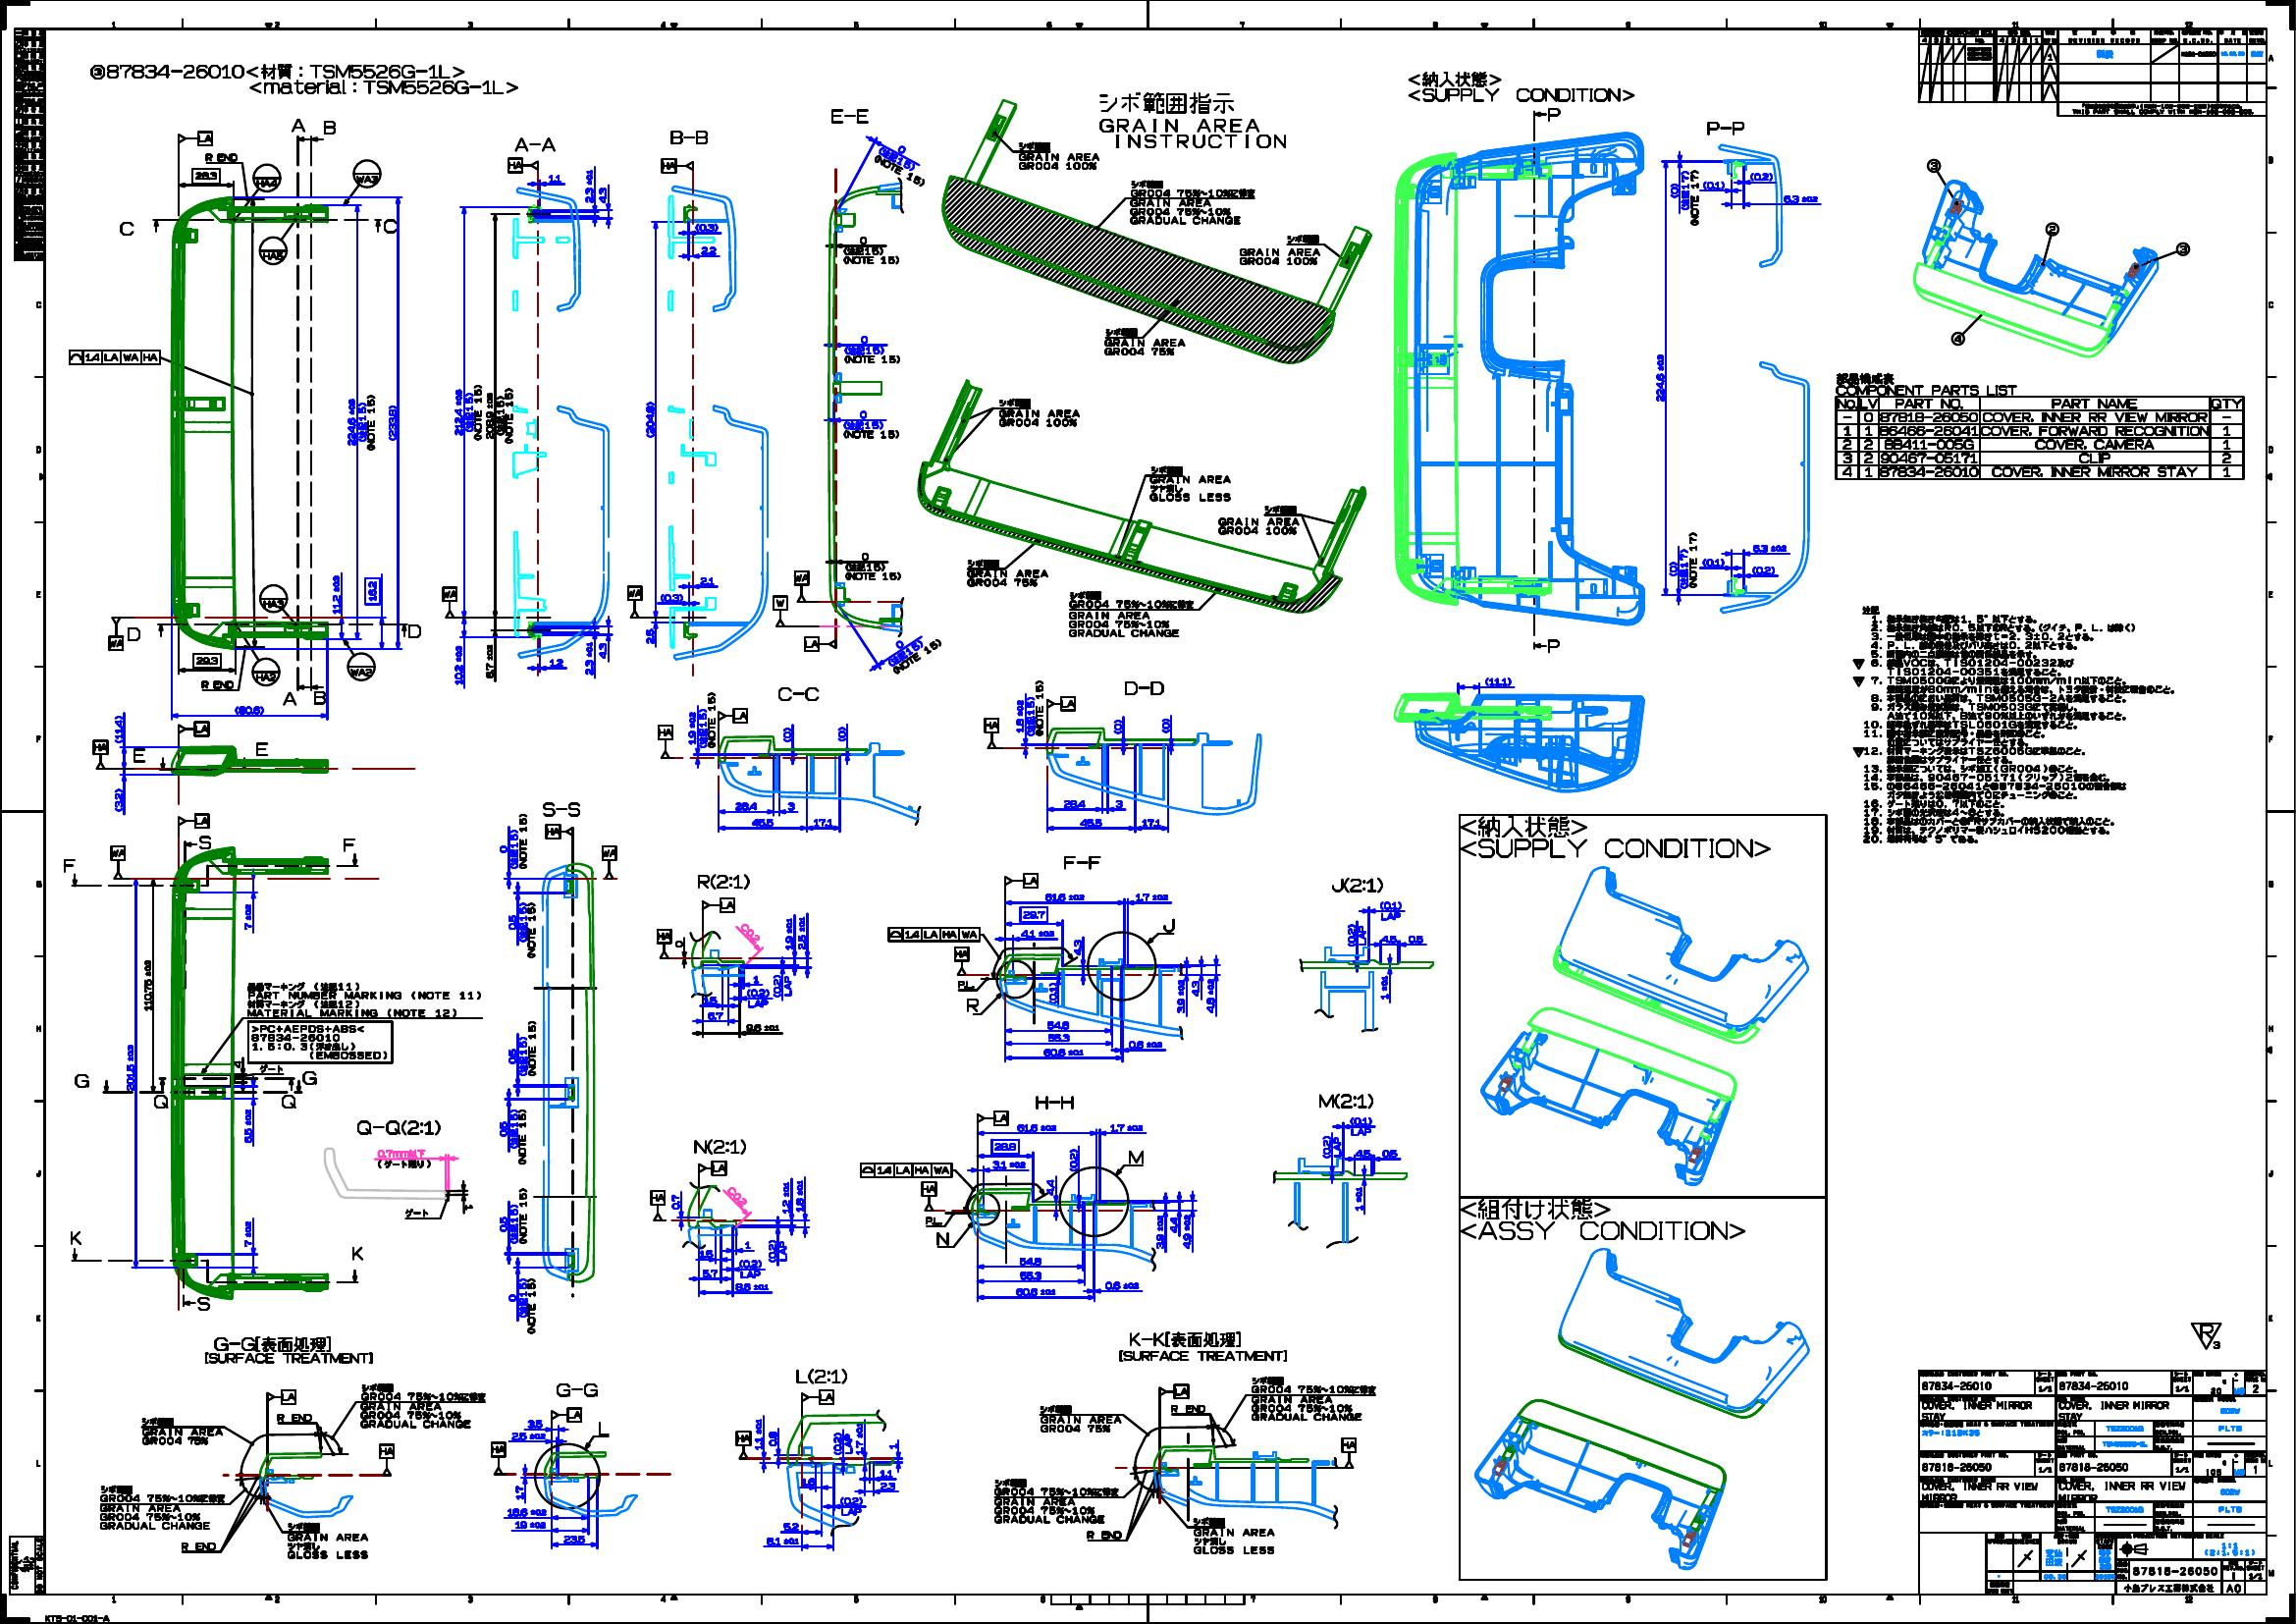anntotation_text: (1848, 606, 2180, 845), (1834, 371, 2247, 480), (1458, 812, 1780, 866), (88, 62, 520, 98), (1460, 1193, 1751, 1243), (1096, 91, 1288, 151), (246, 981, 483, 1019), (1405, 70, 1635, 105), (1128, 178, 1258, 228), (1251, 1374, 1379, 1424), (1068, 591, 1195, 640), (97, 1483, 227, 1531), (993, 1476, 1121, 1524), (246, 1021, 393, 1062), (1114, 1329, 1288, 1362), (360, 1381, 487, 1427), (202, 1336, 372, 1366), (1149, 464, 1237, 504), (1191, 1517, 1275, 1555), (286, 1520, 369, 1559), (137, 1413, 223, 1446), (996, 397, 1080, 431), (1103, 325, 1186, 359), (1015, 141, 1100, 172), (1216, 504, 1300, 536), (1238, 234, 1321, 265), (966, 557, 1049, 589), (1040, 1404, 1123, 1432), (7, 1534, 46, 1594), (69, 348, 160, 366), (355, 1118, 441, 1135), (887, 926, 978, 942), (859, 1162, 950, 1178), (884, 642, 947, 663), (1679, 169, 1700, 228), (841, 344, 901, 366), (358, 390, 378, 455), (516, 1019, 538, 1077), (374, 1148, 432, 1169), (696, 691, 717, 749), (1678, 527, 1697, 589), (841, 562, 903, 582), (508, 812, 529, 868), (873, 156, 929, 178), (518, 1276, 538, 1336), (841, 420, 901, 439), (495, 385, 515, 445), (508, 1186, 527, 1244), (516, 900, 536, 958), (792, 1366, 850, 1385), (690, 1137, 747, 1156), (344, 650, 378, 682), (840, 246, 899, 264), (256, 582, 292, 612), (1316, 1091, 1374, 1109), (464, 383, 481, 441), (249, 162, 281, 193), (350, 160, 383, 190), (509, 1109, 527, 1165), (1026, 680, 1043, 736), (249, 656, 281, 685), (258, 234, 288, 265), (694, 874, 752, 889), (1330, 877, 1384, 893), (1123, 678, 1166, 698), (829, 105, 871, 125), (513, 134, 555, 153), (555, 1381, 599, 1399), (1031, 1095, 1079, 1111), (539, 800, 581, 817), (1059, 854, 1105, 870), (775, 685, 820, 701), (1706, 120, 1744, 137), (668, 128, 706, 146), (701, 896, 736, 914), (1003, 872, 1038, 889), (975, 1109, 1008, 1127), (378, 1443, 395, 1475), (805, 634, 836, 652), (771, 594, 789, 626), (177, 130, 213, 146), (1158, 1383, 1189, 1401), (801, 1388, 834, 1404), (550, 1406, 583, 1422), (490, 1441, 506, 1475), (657, 724, 673, 758), (107, 617, 123, 650), (697, 1158, 727, 1176), (91, 740, 109, 770), (771, 974, 792, 998), (1321, 1134, 1342, 1158), (838, 1496, 864, 1515), (265, 1388, 297, 1404), (984, 717, 1000, 749), (794, 569, 810, 601), (441, 587, 457, 619), (177, 721, 209, 736), (833, 1432, 854, 1455), (1346, 923, 1365, 947), (768, 1237, 787, 1262), (738, 1258, 762, 1278), (921, 1181, 936, 1211), (508, 156, 538, 172), (1340, 1438, 1356, 1468), (661, 158, 694, 172), (627, 585, 641, 619), (111, 844, 125, 877), (177, 814, 211, 828), (44, 1615, 111, 1622), (954, 946, 970, 974), (718, 708, 747, 724), (747, 990, 769, 1009), (1379, 900, 1402, 919), (1349, 1116, 1372, 1135), (655, 928, 669, 958), (650, 1190, 664, 1220), (603, 844, 615, 877), (179, 1540, 218, 1550), (1084, 1529, 1123, 1540), (545, 824, 573, 838), (736, 1431, 750, 1459), (1047, 696, 1075, 710), (276, 1411, 313, 1422), (256, 1063, 285, 1076), (1126, 1149, 1145, 1167), (1925, 156, 1943, 174), (1546, 105, 1563, 123), (204, 153, 239, 162), (1170, 1403, 1205, 1411), (2045, 220, 2061, 239), (292, 116, 307, 135), (402, 1207, 430, 1218), (935, 1229, 950, 1246), (197, 1294, 213, 1311), (69, 1229, 84, 1246), (281, 1093, 297, 1111), (151, 1091, 167, 1109), (74, 1070, 90, 1088), (61, 858, 77, 875), (197, 833, 213, 851), (341, 835, 357, 852), (383, 216, 399, 234), (321, 118, 337, 135), (116, 220, 132, 237), (130, 747, 146, 765), (253, 738, 269, 756), (406, 622, 422, 640), (311, 689, 327, 707), (596, 1420, 611, 1436), (1950, 330, 1966, 346), (2175, 241, 2191, 257), (350, 1246, 365, 1262), (281, 691, 297, 707), (125, 626, 141, 642), (964, 997, 978, 1014), (302, 1069, 316, 1086), (924, 1213, 943, 1225), (956, 979, 975, 990), (1546, 638, 1560, 652), (1163, 917, 1175, 933)
dimension_text: (141, 958, 153, 1014), (346, 397, 358, 448), (483, 390, 495, 439), (453, 388, 466, 434), (1655, 352, 1665, 402), (1014, 1120, 1056, 1132), (193, 652, 221, 670), (364, 576, 381, 605), (583, 640, 596, 678), (1014, 1287, 1058, 1297), (199, 678, 235, 691), (1751, 541, 1788, 554), (583, 169, 596, 206), (453, 643, 464, 685), (191, 167, 220, 183), (1043, 891, 1086, 902), (513, 1519, 548, 1531), (783, 916, 796, 951), (126, 1042, 135, 1091), (506, 1506, 546, 1517), (991, 1139, 1017, 1155), (1021, 907, 1047, 923), (330, 575, 341, 613), (1180, 1213, 1191, 1251), (645, 399, 655, 438), (509, 1431, 546, 1441), (792, 1179, 805, 1211), (483, 642, 494, 678), (242, 1107, 253, 1144), (386, 404, 397, 441), (1103, 1280, 1140, 1290), (1154, 1213, 1165, 1250), (1108, 1121, 1145, 1132), (1205, 977, 1216, 1014), (1173, 977, 1184, 1014), (1783, 193, 1820, 204), (1042, 1048, 1086, 1056), (764, 1534, 799, 1545), (780, 1179, 791, 1214), (745, 1023, 780, 1033), (991, 1158, 1026, 1169), (687, 710, 697, 745), (1014, 698, 1024, 733), (112, 714, 125, 743), (1353, 1183, 1365, 1213), (752, 1418, 762, 1452), (232, 705, 265, 715), (1021, 926, 1054, 937), (1066, 1146, 1079, 1172), (1126, 1040, 1163, 1049), (1133, 893, 1170, 902), (1483, 675, 1513, 685), (856, 1422, 864, 1457), (734, 1283, 769, 1292), (798, 916, 806, 951), (724, 1190, 748, 1202), (738, 926, 762, 939), (1017, 1269, 1042, 1281), (1045, 1019, 1070, 1032), (1750, 170, 1774, 183), (1379, 974, 1390, 1002), (244, 902, 253, 932), (112, 787, 123, 812), (1017, 1257, 1042, 1267), (750, 817, 775, 828), (812, 816, 833, 828), (733, 800, 757, 810), (1700, 557, 1725, 568), (661, 592, 682, 605), (244, 1220, 253, 1248), (1047, 981, 1058, 1004), (1047, 1032, 1070, 1042), (766, 1429, 778, 1448), (1079, 817, 1105, 826), (694, 223, 720, 232), (506, 1046, 516, 1067), (497, 1120, 508, 1141), (562, 1534, 587, 1543), (878, 1480, 896, 1492), (1063, 800, 1087, 808), (1700, 179, 1725, 188), (1751, 564, 1776, 573), (697, 575, 715, 587), (780, 1520, 799, 1531), (1045, 1178, 1056, 1197), (1168, 1214, 1179, 1234), (782, 726, 792, 745), (703, 995, 718, 1007), (1667, 561, 1679, 576), (497, 1214, 508, 1232), (1189, 981, 1200, 998), (1072, 939, 1082, 956), (834, 726, 845, 743), (1142, 817, 1163, 826), (1112, 717, 1123, 735), (1669, 181, 1679, 199), (699, 244, 717, 255), (597, 640, 606, 659), (1407, 933, 1426, 942), (645, 627, 653, 647), (548, 657, 564, 668), (1159, 717, 1170, 733), (1356, 1149, 1372, 1160), (506, 914, 515, 932), (515, 1483, 523, 1501), (527, 1418, 545, 1427), (671, 1193, 680, 1211), (706, 1011, 724, 1019), (1381, 1149, 1398, 1158), (1379, 933, 1397, 942), (597, 186, 606, 204), (878, 1468, 892, 1478), (703, 1267, 717, 1278), (546, 172, 560, 183), (497, 842, 508, 854), (803, 1476, 815, 1487), (785, 801, 796, 814), (699, 1250, 713, 1258), (673, 939, 683, 949), (1114, 798, 1124, 808), (508, 1292, 516, 1302), (889, 1441, 898, 1452), (743, 1241, 752, 1250), (752, 975, 761, 984)
object: (1391, 127, 1646, 626), (936, 95, 1374, 367), (913, 380, 1368, 615), (169, 193, 330, 656), (170, 845, 334, 1302), (664, 185, 769, 663), (508, 186, 611, 663), (1481, 1002, 1741, 1186), (1551, 865, 1809, 1046), (1716, 141, 1813, 613), (1555, 1246, 1813, 1422), (1911, 179, 2161, 360), (1474, 1397, 1727, 1570), (829, 178, 906, 640), (1390, 691, 1648, 794), (538, 859, 597, 1281), (1045, 726, 1265, 816), (991, 947, 1184, 1046), (718, 733, 919, 824), (963, 1181, 1156, 1267), (1151, 1443, 1340, 1527), (1270, 1156, 1412, 1246), (1298, 944, 1439, 1033), (783, 1410, 884, 1529), (239, 1434, 355, 1517), (321, 1146, 453, 1202), (541, 1450, 639, 1520), (169, 743, 330, 780), (680, 1185, 745, 1250), (689, 928, 747, 998)
title_block: (1917, 1369, 2268, 1596), (1917, 28, 2266, 116), (12, 26, 46, 262)
